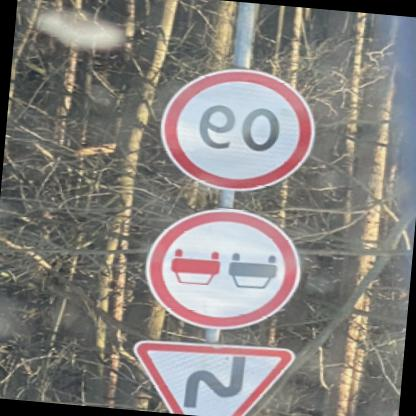speedlimit: (154, 63, 318, 198)
